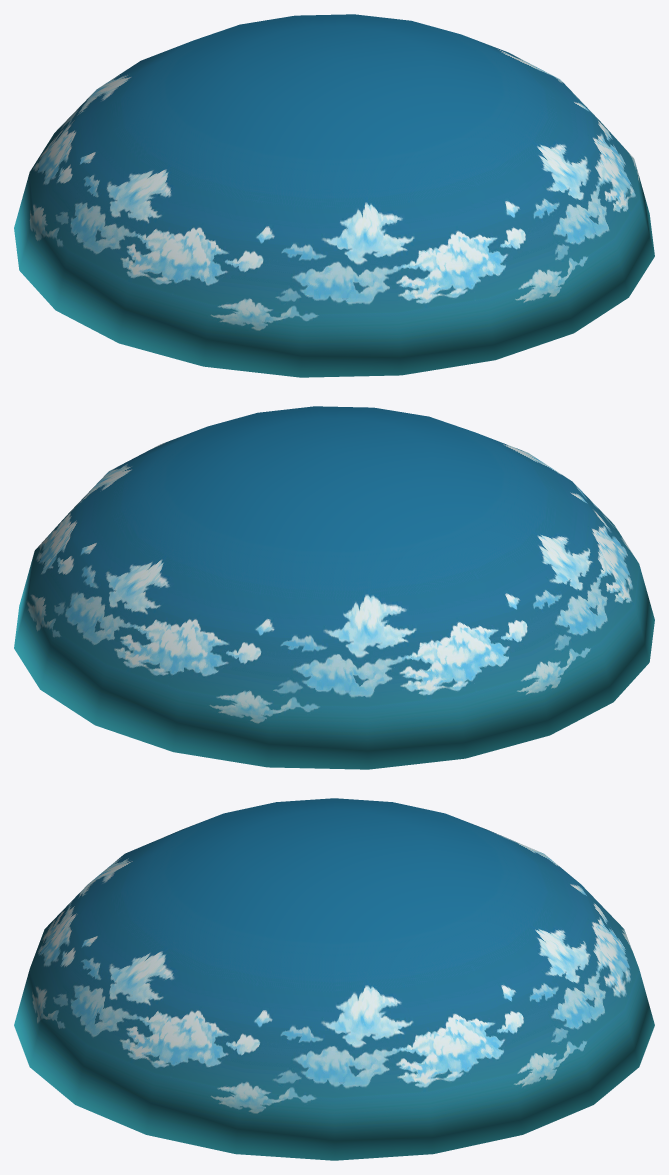
File: Stadium Hero_skydome.FBX
3 renders of one model, top to bottom at view 1: azimuth 30°, elevation 25°; view 2: azimuth 150°, elevation 25°; view 3: azimuth 270°, elevation 25°, orthographic.
Parts seen in each view (by area): view 1: skydome; view 2: skydome; view 3: skydome.
Part boxes in pixels (x1,y1,x2,y2): skydome: (14, 14, 654, 377); skydome: (14, 406, 654, 769); skydome: (14, 798, 654, 1160).
Size of the model in its own units: 59213 by 18582 by 59213.
